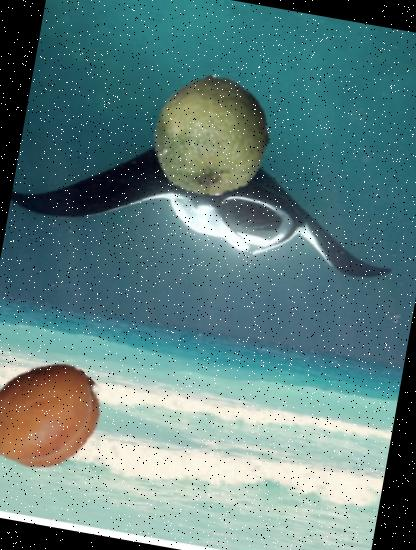Apricot: (0, 346, 112, 485)
Limes: (142, 66, 281, 205)
